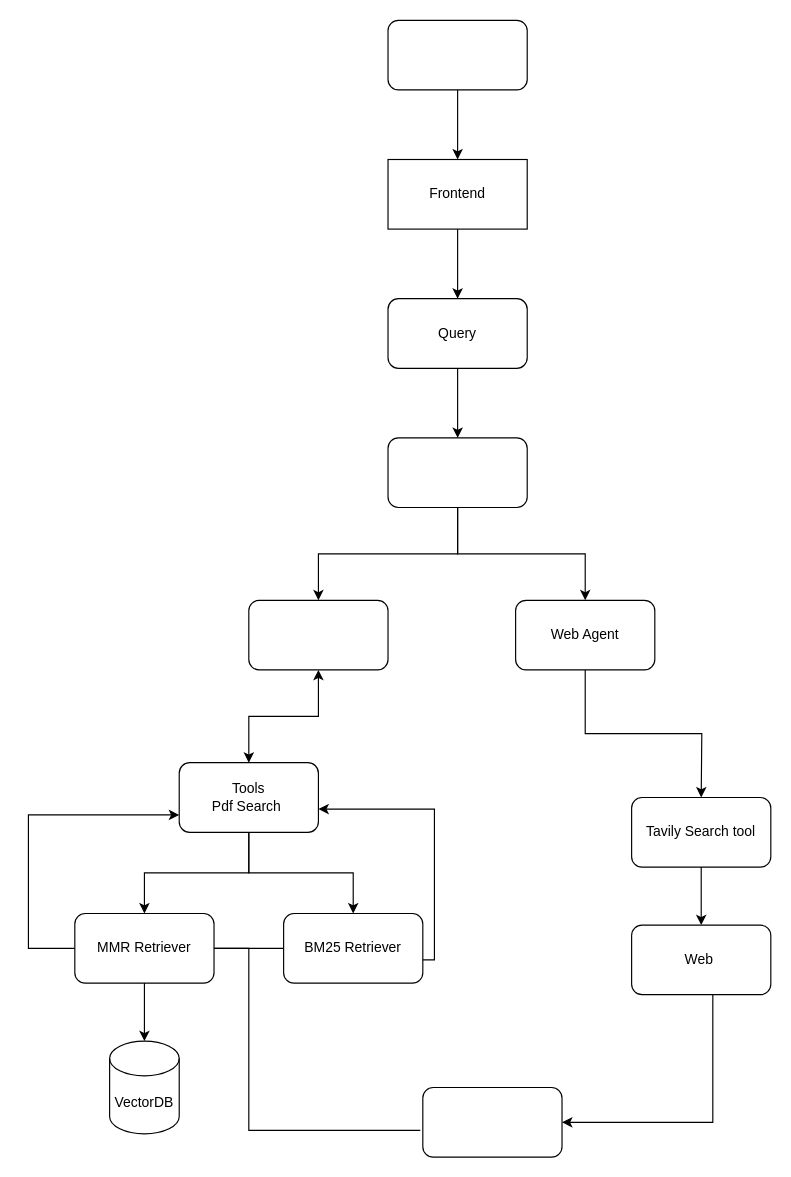
The diagram is 791 pixels wide and 1177 high, and some of its shapes have lost their labels. Here are the shapes that lost their labels. From the top down, the box of each, then its label:
(387, 19, 527, 90): User
(387, 437, 527, 507): Supervisor Agent
(248, 599, 388, 670): Pdf Agent
(422, 1086, 562, 1157): END
